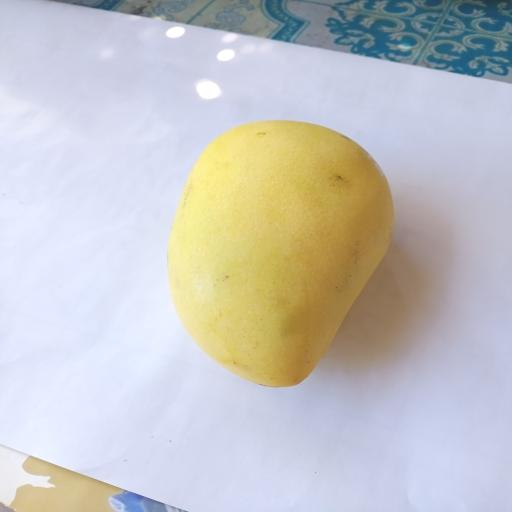mango-ripe: (148, 89, 413, 424)
